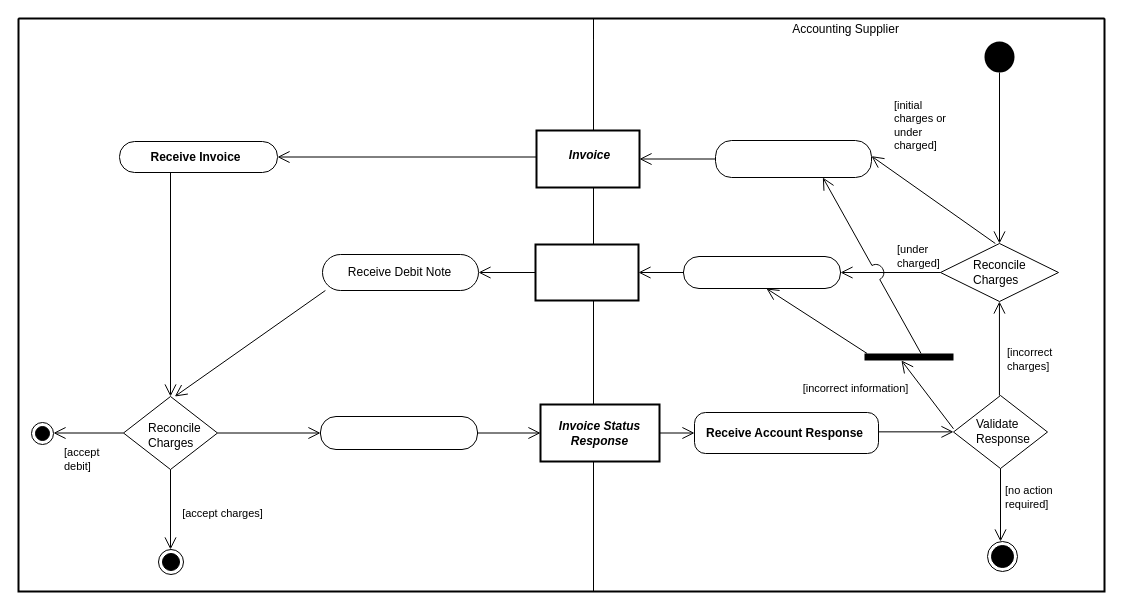
The diagram is 1122 pixels wide and 609 high, and some of its shapes have lost their labels. Each missing label, with the box of its shape:
Accounting Customer: (18, 18, 594, 592)
Debit Note: (534, 243, 639, 301)
Raise Debit Note: (682, 256, 840, 288)
Raise Invoice: (714, 140, 872, 178)
Send Account Response: (320, 416, 478, 450)
